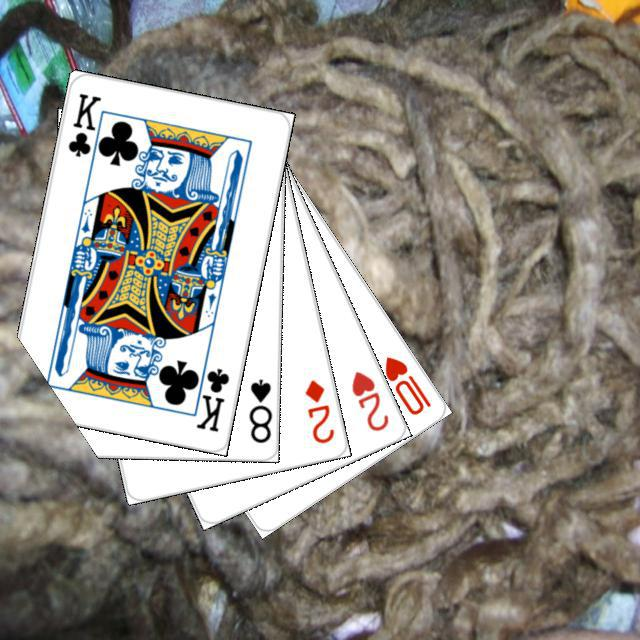10h: (379, 351, 433, 417)
2d: (299, 374, 336, 446)
2h: (346, 366, 391, 433)
8s: (244, 374, 273, 444)
Kc: (187, 353, 231, 434), (63, 88, 106, 168)
